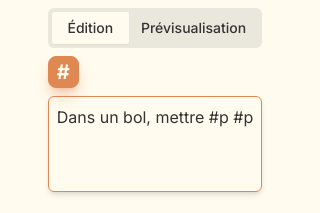
Add a reference › Should complete only the reference being typed when a food is clicked
The image size is (320, 213).
Click the field.
click(155, 144)  # box [48,96,262,192]
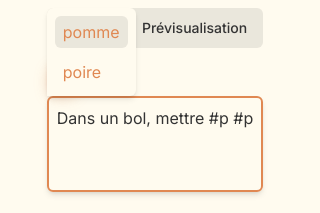
Type keys "a"
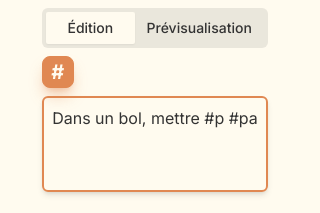
Press Backspace
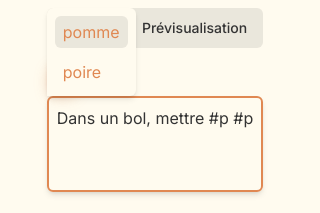
Click the button "pomme".
click(91, 32)  # box [55,16,128,48]
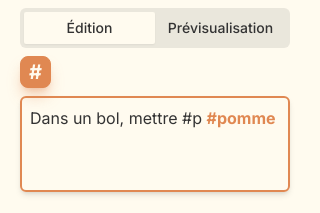
Check: the field reads "Dans un bol, mettre #p #pomme", box [20,96,290,192]
